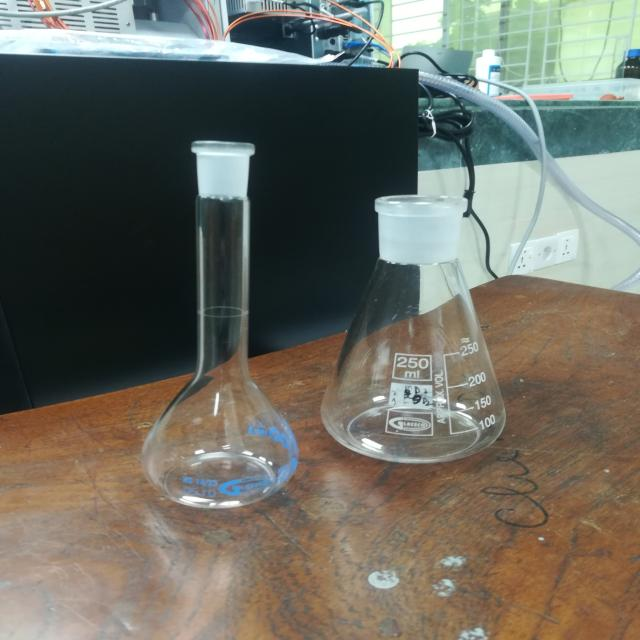Conical_Flask: (310, 174, 528, 468)
Volumetric_Flask: (108, 123, 311, 525)
